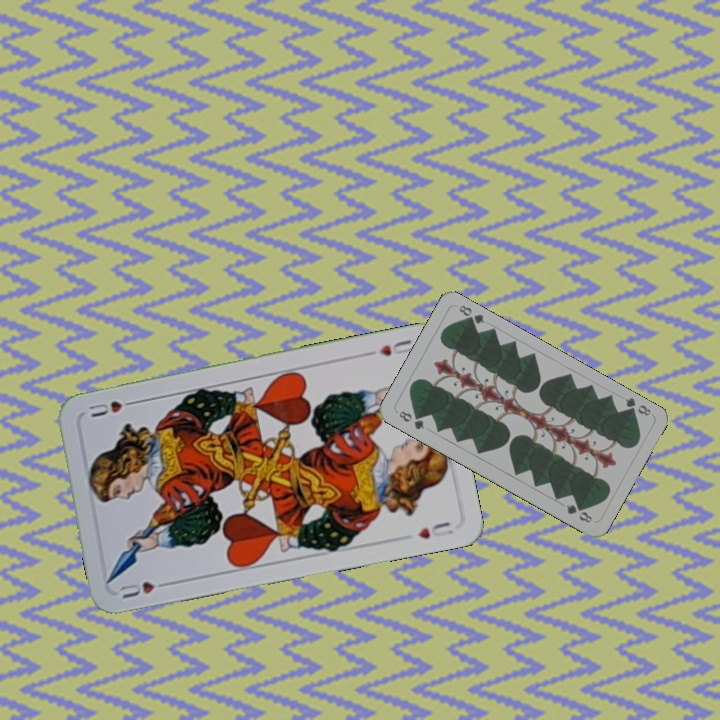G8: (395, 407, 427, 432), (621, 394, 653, 419)
HU: (116, 577, 173, 601), (363, 335, 416, 359)
